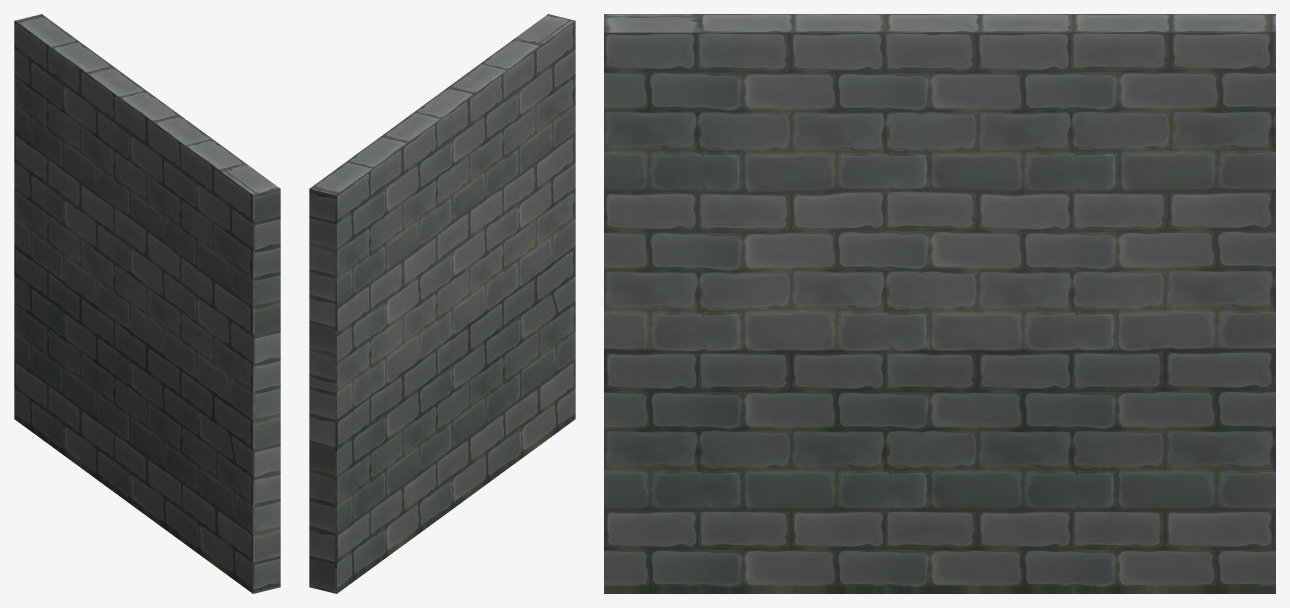
The model's file is wallBreakable.FBX.
The picture shows the model from 3 angles, left to right: view 1: azimuth 30°, elevation 25°; view 2: azimuth 150°, elevation 25°; view 3: azimuth 270°, elevation 25°; orthographic projection. The views are drawn at different scales.
Parts seen in each view (by area): view 1: wall_breakable_piece3, wall_breakable_piece5, wall_breakable_piece1, wall_breakable_piece4, wall_breakable_piece2, wall_breakable_piece7, wall_breakable_piece6; view 2: wall_breakable_piece1, wall_breakable_piece4, wall_breakable_piece3, wall_breakable_piece5, wall_breakable_piece2, wall_breakable_piece7, wall_breakable_piece6; view 3: wall_breakable_piece1, wall_breakable_piece3, wall_breakable_piece5, wall_breakable_piece4, wall_breakable_piece7, wall_breakable_piece2, wall_breakable_piece6.
Boxes of the visible parts, x1=… form: wall_breakable_piece3: x1=166, y1=163, x2=280, y2=476; wall_breakable_piece5: x1=132, y1=371, x2=280, y2=593; wall_breakable_piece1: x1=14, y1=14, x2=132, y2=241; wall_breakable_piece4: x1=14, y1=216, x2=132, y2=504; wall_breakable_piece2: x1=82, y1=63, x2=245, y2=244; wall_breakable_piece7: x1=49, y1=210, x2=184, y2=385; wall_breakable_piece6: x1=64, y1=308, x2=166, y2=472; wall_breakable_piece1: x1=309, y1=139, x2=454, y2=390; wall_breakable_piece4: x1=309, y1=366, x2=454, y2=593; wall_breakable_piece3: x1=489, y1=14, x2=575, y2=301; wall_breakable_piece5: x1=454, y1=272, x2=575, y2=507; wall_breakable_piece2: x1=377, y1=39, x2=540, y2=220; wall_breakable_piece7: x1=371, y1=196, x2=506, y2=399; wall_breakable_piece6: x1=387, y1=334, x2=488, y2=486; wall_breakable_piece1: x1=944, y1=14, x2=1275, y2=308; wall_breakable_piece3: x1=604, y1=14, x2=847, y2=427; wall_breakable_piece5: x1=604, y1=350, x2=943, y2=593; wall_breakable_piece4: x1=944, y1=308, x2=1275, y2=593; wall_breakable_piece7: x1=797, y1=191, x2=1177, y2=389; wall_breakable_piece2: x1=701, y1=14, x2=1085, y2=190; wall_breakable_piece6: x1=847, y1=350, x2=1134, y2=548.
Bounding box in the file's own units: 13.23 × 184 × 200.
